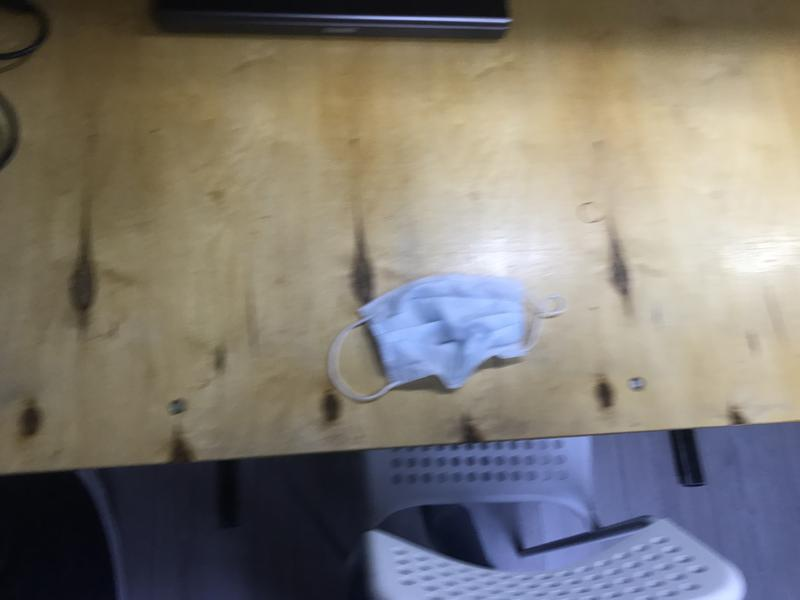medical_mask: (328, 275, 566, 401)
